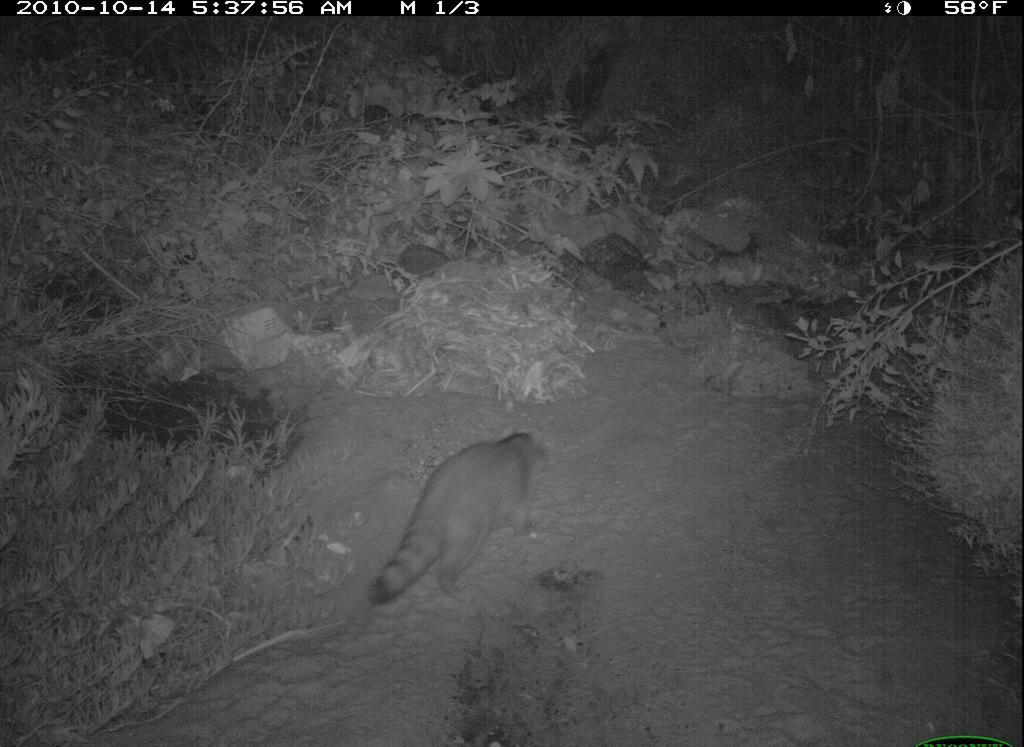raccoon: (365, 396, 578, 634)
